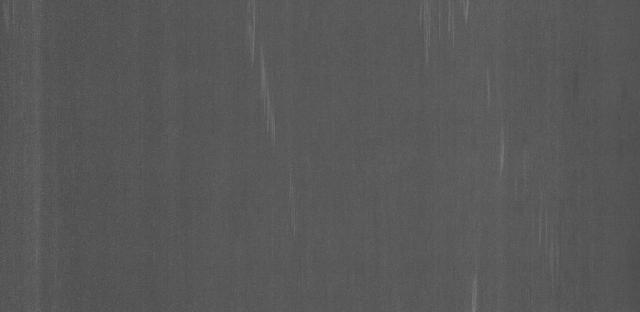silk_spot: (230, 15, 298, 134), (526, 200, 584, 266), (408, 2, 471, 58), (489, 106, 522, 185), (472, 246, 492, 312)
